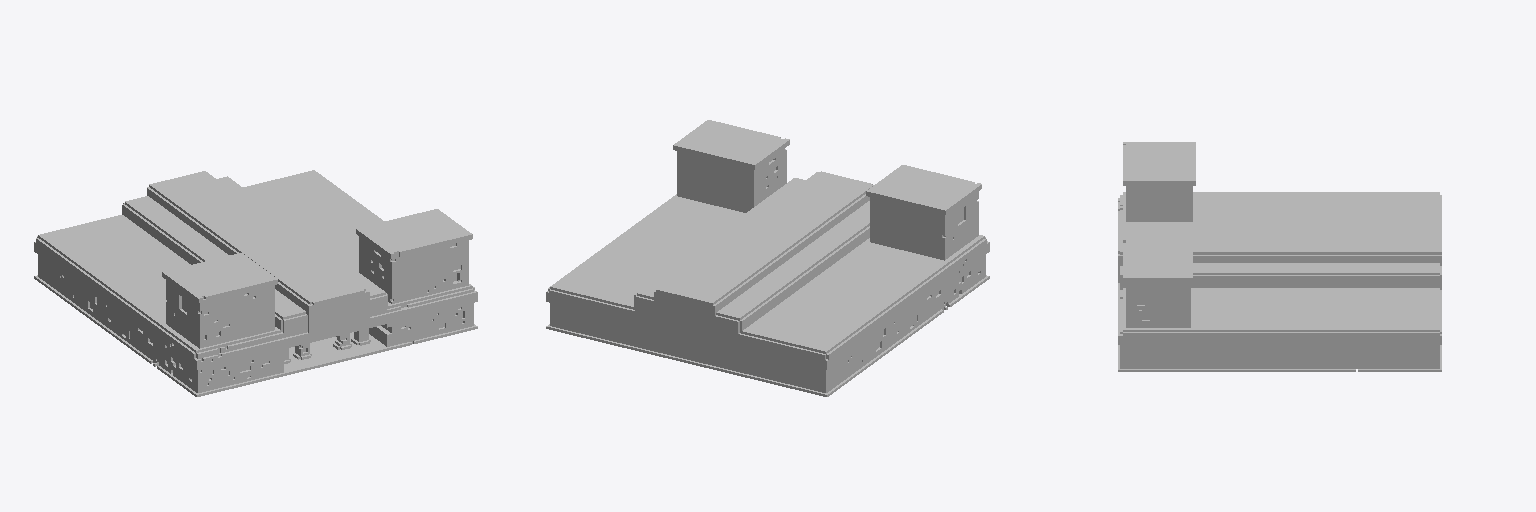
Rendered from tier 3 manor.obj.
3 views of the same model, side by side, from view 1: azimuth 30°, elevation 25°; view 2: azimuth 150°, elevation 25°; view 3: azimuth 270°, elevation 25° (orthographic).
Visible parts, largest first — view 1: object 1; view 2: object 1; view 3: object 1.
Boxes of the visible parts, box(x1,y1,x2,y2) form: object 1: box(34, 170, 477, 396); object 1: box(546, 120, 989, 396); object 1: box(1118, 142, 1441, 371).
Bounding box in the file's own units: 12 × 3.9 × 12.